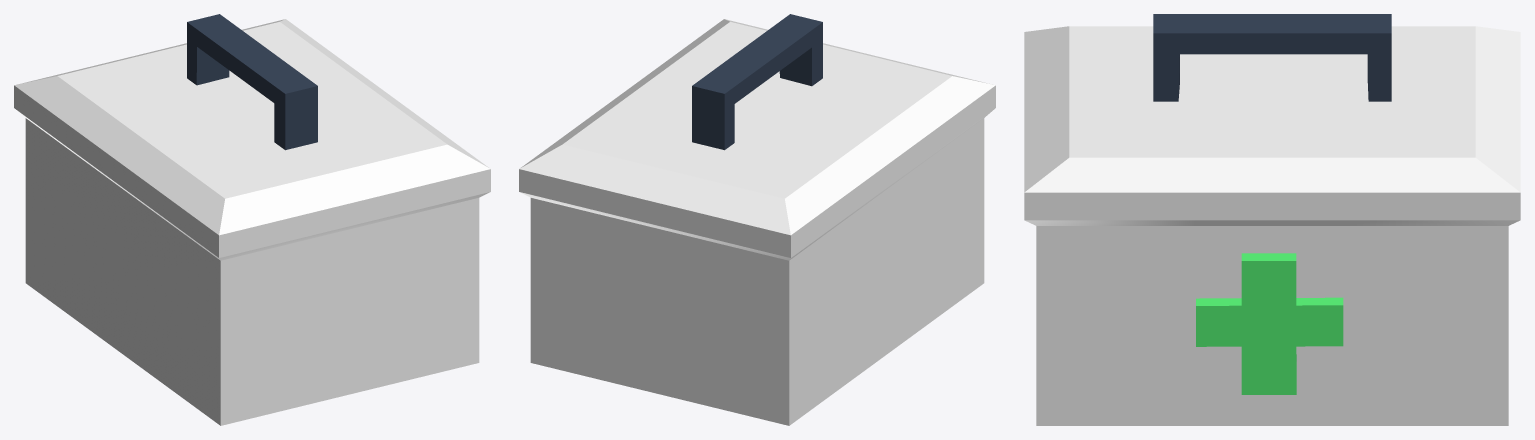
The model's file is Unwrapped_med.fbx.
3 views of the same model, side by side, from view 1: azimuth 30°, elevation 25°; view 2: azimuth 150°, elevation 25°; view 3: azimuth 270°, elevation 25° (orthographic). The views are drawn at different scales.
Parts seen in each view (by area): view 1: Box001; view 2: Box001; view 3: Box001.
Boxes of the visible parts, x1,y1,x2,y2 form: Box001: (14, 14, 490, 425); Box001: (519, 14, 995, 425); Box001: (1024, 14, 1520, 425).
Bounding box in the file's own units: 42.32 × 39.15 × 54.07.
